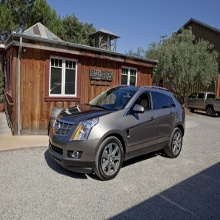no damage: (49, 85, 185, 179)
